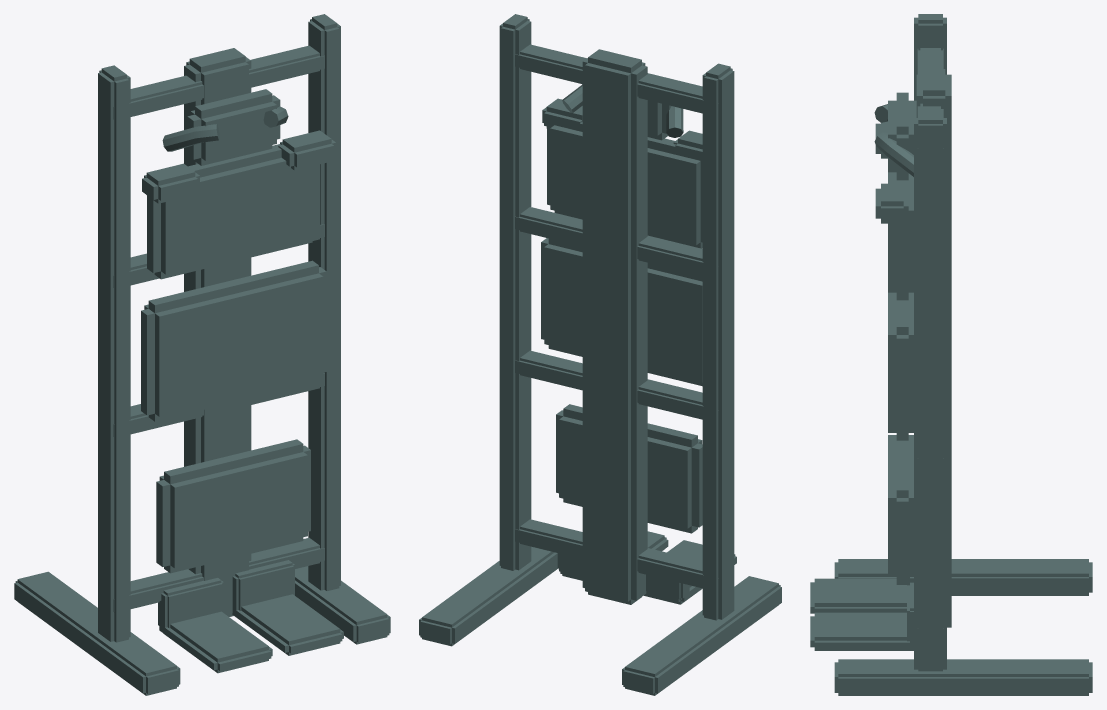
File: HUM-02_SoporteInclinado.fbx
3 views of the same model, side by side, from view 1: azimuth 30°, elevation 25°; view 2: azimuth 150°, elevation 25°; view 3: azimuth 270°, elevation 25° (orthographic). The views are drawn at different scales.
Parts seen in each view (by area): view 1: GEO-HUM-02_SoporteInclinado; view 2: GEO-HUM-02_SoporteInclinado; view 3: GEO-HUM-02_SoporteInclinado.
Part boxes in pixels (<box>): GEO-HUM-02_SoporteInclinado: <box>14,14,390,695</box>; GEO-HUM-02_SoporteInclinado: <box>419,14,781,695</box>; GEO-HUM-02_SoporteInclinado: <box>810,14,1092,695</box>.
Bounding box in the file's own units: 0.8 × 1.81 × 0.81.
